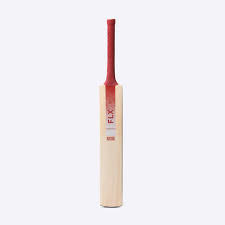bottom left: (94, 197, 107, 210)
bottom right: (116, 199, 130, 213)
top left: (94, 81, 106, 93)
top right: (117, 80, 130, 93)
